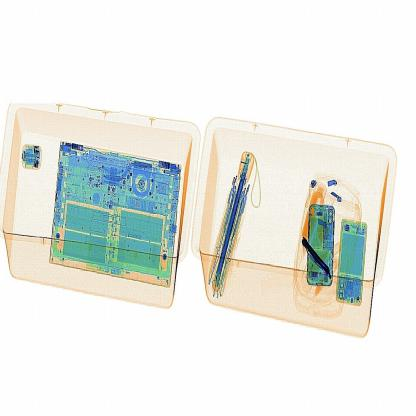knife: (296, 235, 335, 280)
